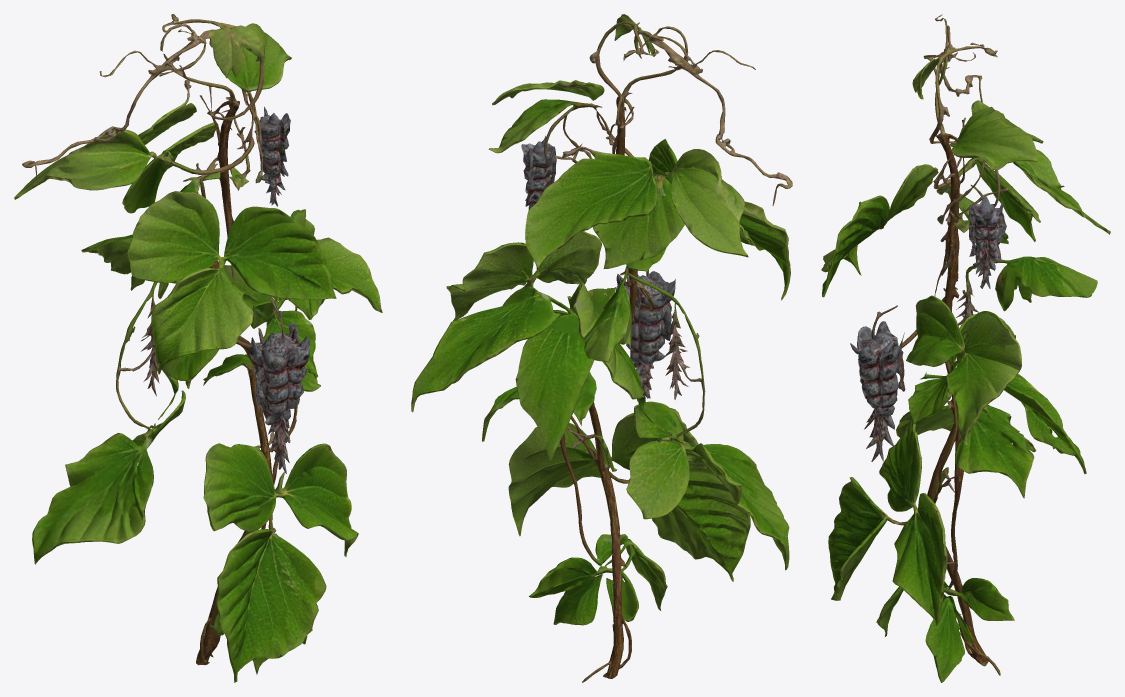
The model's file is Kudzu.glb.
3 renders of one model, left to right at view 1: azimuth 30°, elevation 25°; view 2: azimuth 150°, elevation 25°; view 3: azimuth 270°, elevation 25°, orthographic. The views are drawn at different scales.
Visible parts, largest first — view 1: Mesh_0; view 2: Mesh_0; view 3: Mesh_0.
Part boxes in pixels (<box>): Mesh_0: <box>14,14,382,682</box>; Mesh_0: <box>411,14,792,682</box>; Mesh_0: <box>821,14,1110,682</box>.
Size of the model in its own units: 0.5537 by 1 by 0.4238.
1 material, 1 textured.
